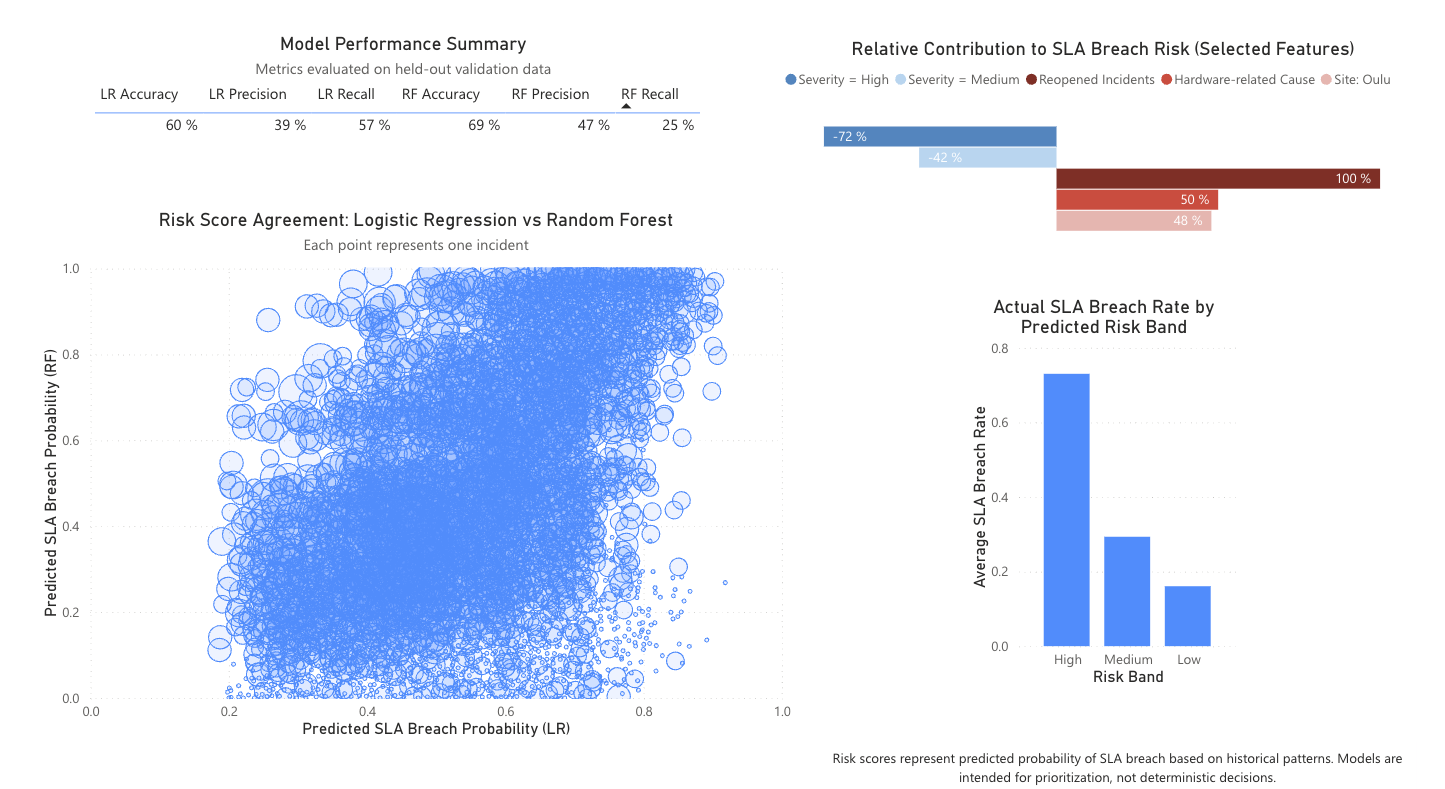

The dashboard page shown, as its layout file describes it:
{"tool":"powerbi","page":{"name":"Model Analysis","canvas":[1280,720],"ordinal":1},"visuals":[{"type":"tableEx","title":"Model Performance Summary","fields":{"Values":["dashboard_data.metric_lr_acc","dashboard_data.metric_lr_prec","dashboard_data.metric_lr_rec","dashboard_data.metric_rf_acc","dashboard_data.metric_rf_prec","dashboard_data.metric_rf_rec"]},"box":[62.1,37.1,568.9,158.6],"z":0},{"type":"columnChart","title":"Actual SLA Breach Rate by Predicted Risk Band","fields":{"Category":["dashboard_data.risk_band"],"Y":["Avg(dashboard_data.sla_breached)"]},"box":[853.3,274.1,250.8,353.4],"z":1000},{"type":"clusteredBarChart","title":"Relative Contribution to SLA Breach Risk (Selected Features)","fields":{"Y":["Avg(dashboard_data.imp_severity_High)","Avg(dashboard_data.imp_severity_Medium)","Avg(dashboard_data.incident_count_hint)","Avg(dashboard_data.imp_cause_category_Hardware)","Avg(dashboard_data.imp_site_city_Oulu)"]},"box":[686.1,41.4,584.4,197.4],"z":2000},{"type":"scatterChart","title":"Risk Score Agreement: Logistic Regression vs Random Forest","fields":{"X":["dashboard_data.lr_prob"],"Y":["dashboard_data.rf_prob"],"Size":["Sum(dashboard_data.sla_breached)"]},"box":[15.4,195.4,685.9,478.6],"z":3000},{"type":"textbox","box":[720.6,674,540.4,45.7],"z":4000}]}

Visuals, with their boxes on the page's 1280x720 design canvas (x1, y1, x2, y2). These are canvas units, not pixel positions in the 1445x789 screenshot, which may show the page scaled, cropped or inside an application window:
"Model Performance Summary" tableEx: [left=62, top=37, right=631, bottom=196]
"Actual SLA Breach Rate by Predicted Risk Band" columnChart: [left=853, top=274, right=1104, bottom=628]
"Relative Contribution to SLA Breach Risk (Selected Features)" clusteredBarChart: [left=686, top=41, right=1270, bottom=239]
"Risk Score Agreement: Logistic Regression vs Random Forest" scatterChart: [left=15, top=195, right=701, bottom=674]
textbox: [left=721, top=674, right=1261, bottom=720]
